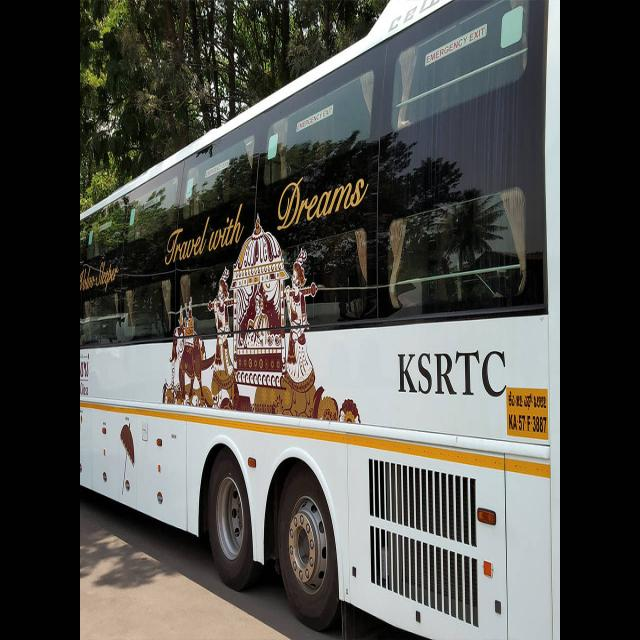bus: (80, 0, 559, 638)
